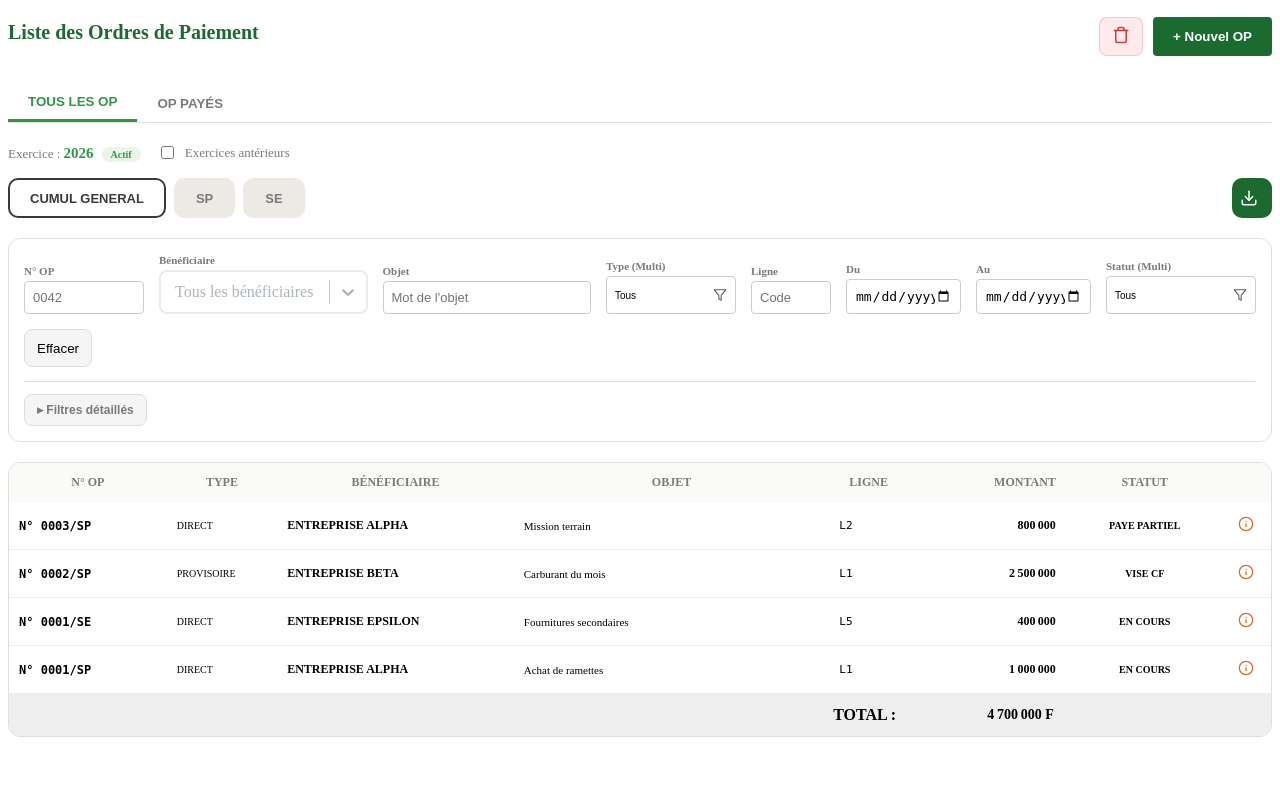
Test: Liste OP — l'onglet OP payés › le montant payé et le solde restant sont affichés
Click the button "OP PAYÉS".
click(190, 103)  # box [137, 84, 243, 122]
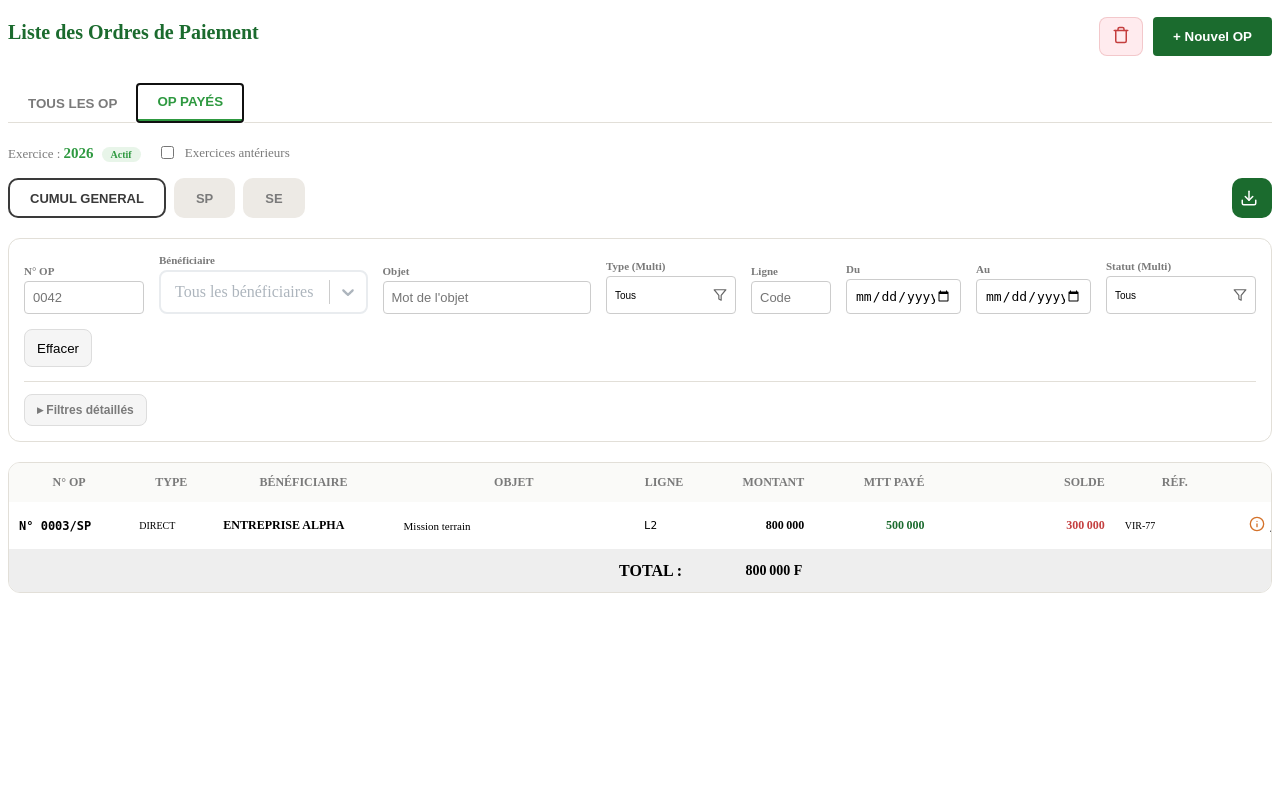
Expected: the column heading "Mtt Payé" is shown, [814, 463, 934, 502]
Expected: the column heading "Solde" is shown, [934, 463, 1115, 502]
